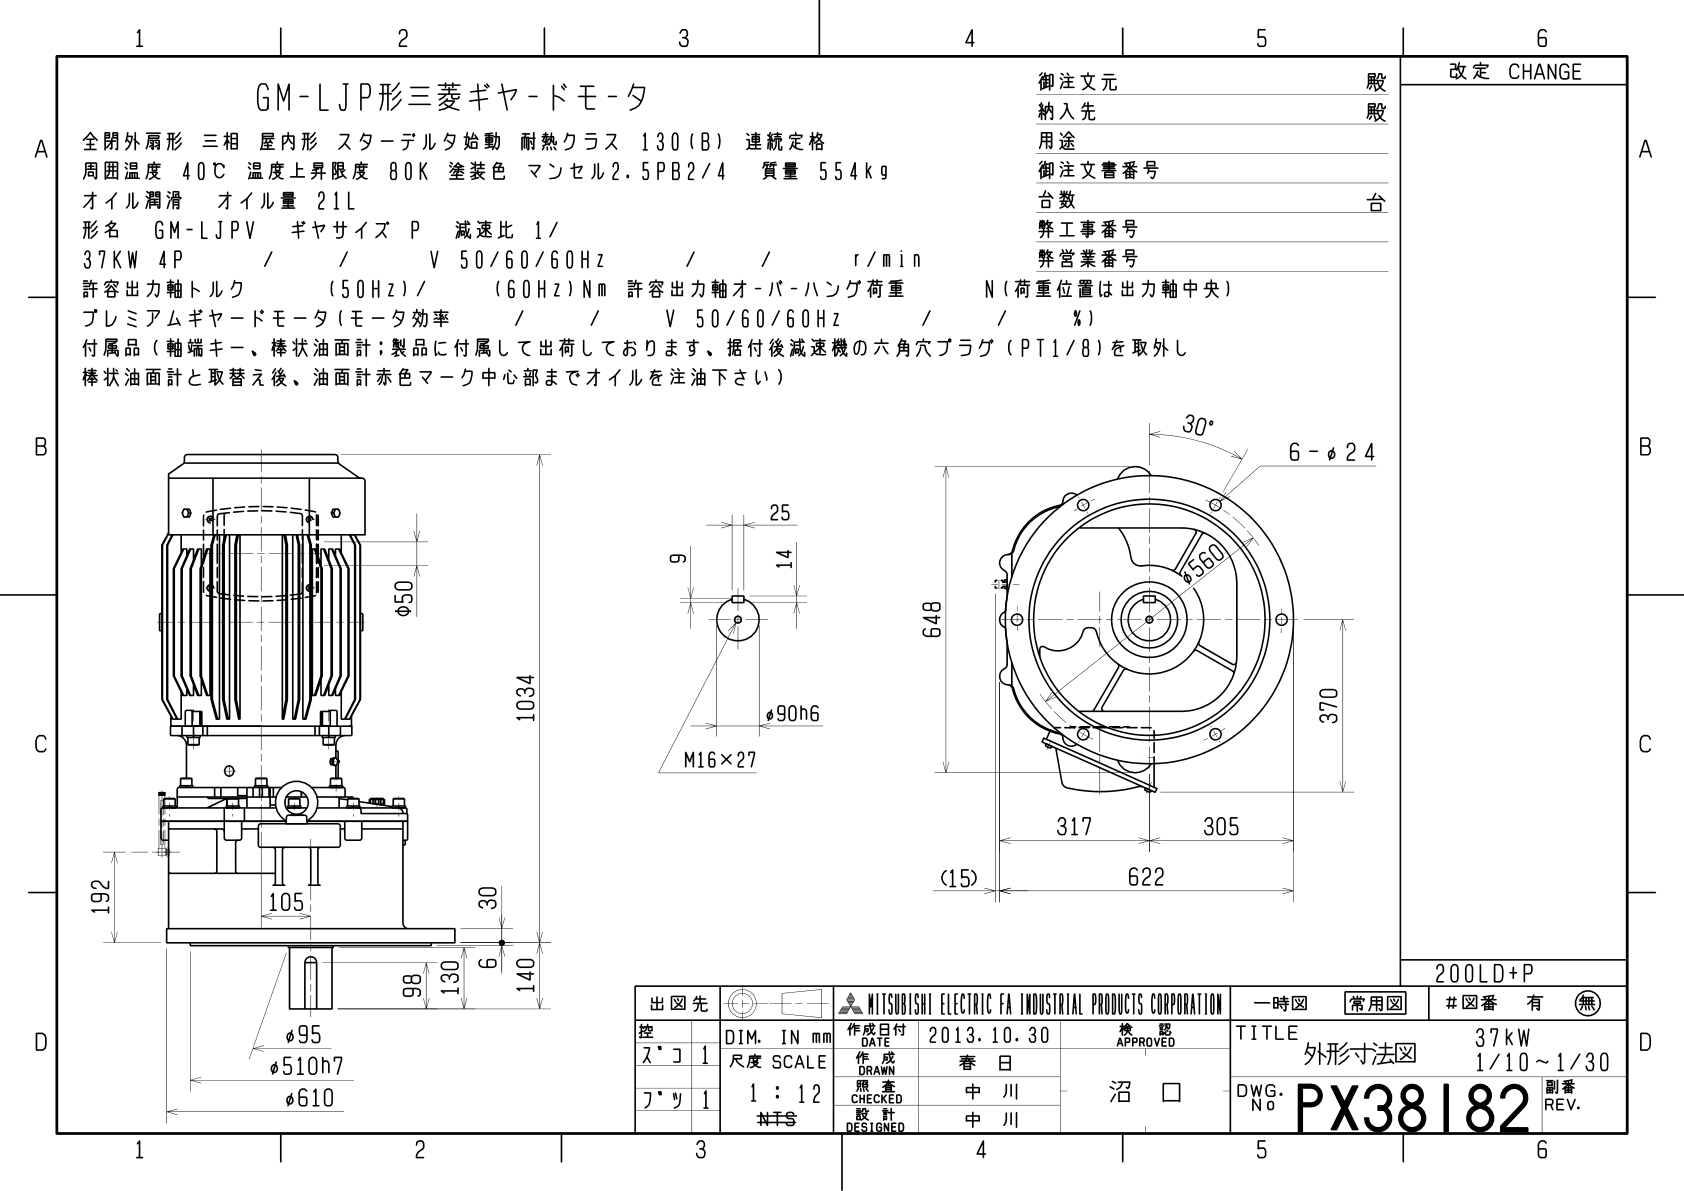GM_LJP_屋内_三相_立: (1, 1, 1669, 1172)
